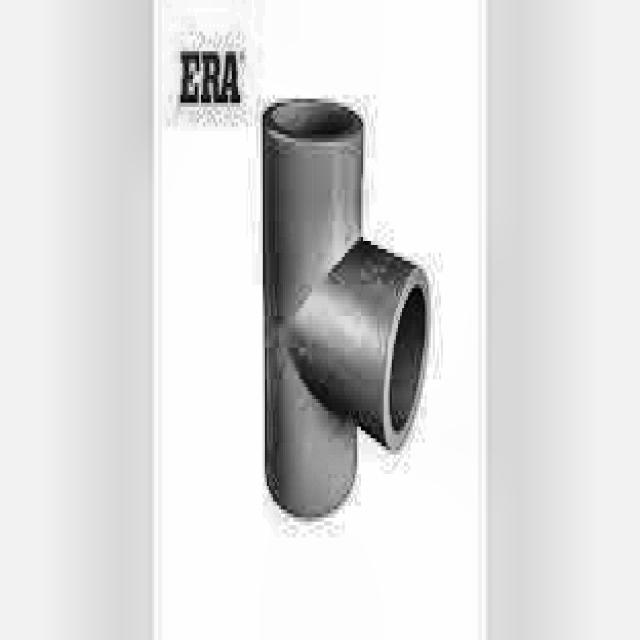EQUALTEE: (261, 99, 433, 521)
